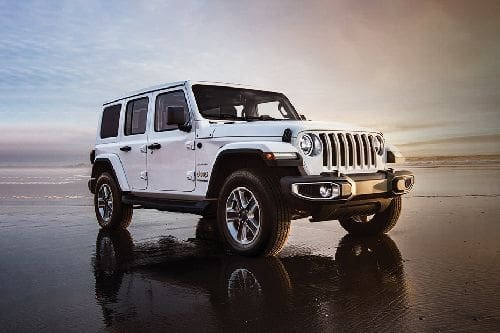mobil: (85, 78, 417, 260)
